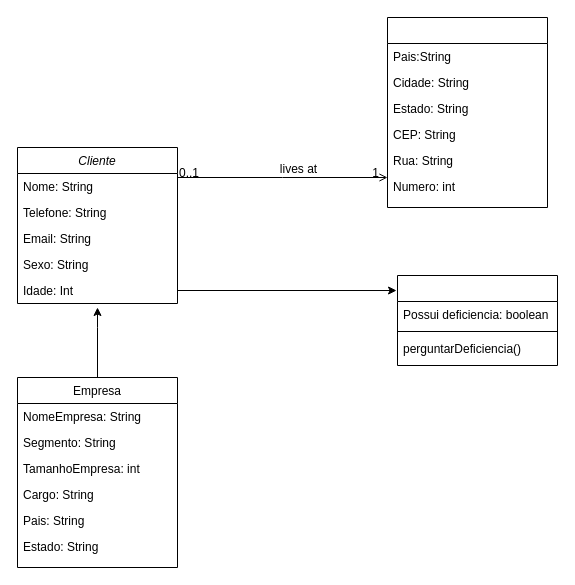
This 575x585 diagram has some shape labels left out. The box of each missing label's shape, as (x1, y1, x2, y2) in pixels:
Acessibilidade: (396, 274, 558, 366)
Endereco: (386, 16, 548, 208)
